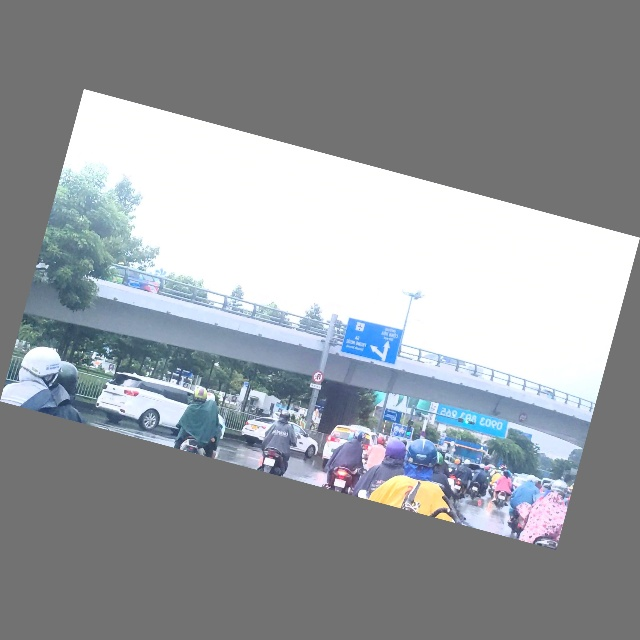P.124b1: (311, 370, 325, 386)
